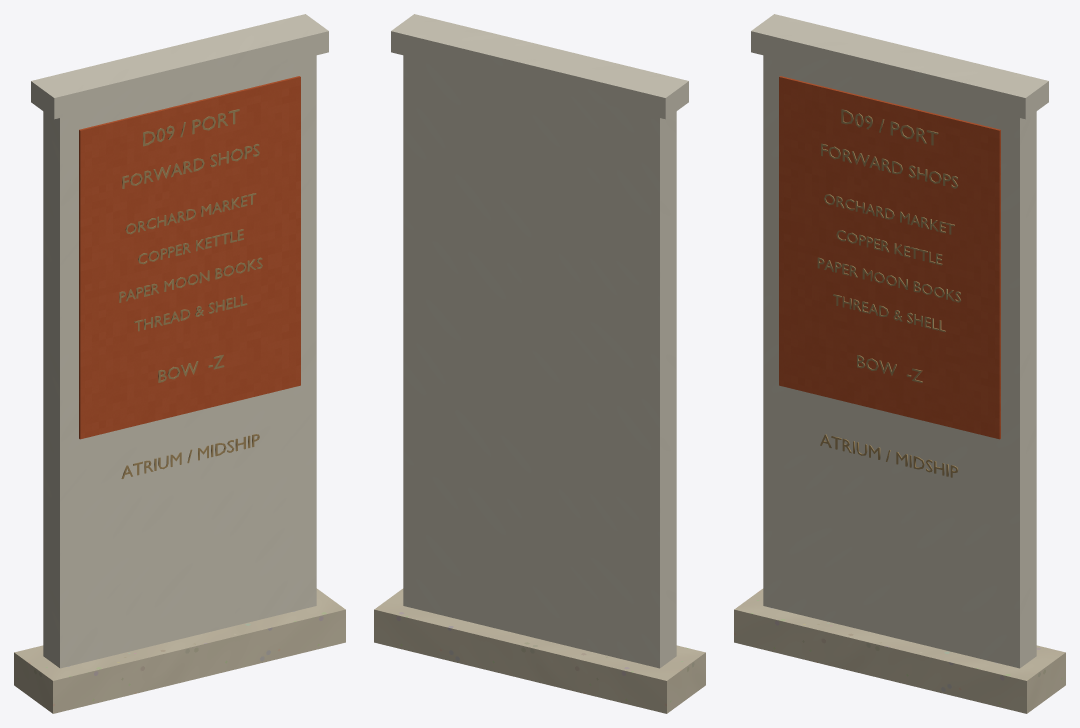
File: guide_port_forward_r001.glb
3 renders of one model, left to right at view 1: azimuth 30°, elevation 25°; view 2: azimuth 150°, elevation 25°; view 3: azimuth 330°, elevation 25°, orthographic.
Visible parts, largest first — view 1: profiled_column, recessed_orange_directory, weighted_plinth, crown, district, atrium, venue_2, venue_0, venue_3, venue_1, heading; view 2: profiled_column, weighted_plinth, crown; view 3: profiled_column, recessed_orange_directory, weighted_plinth, crown, district, atrium, venue_2, venue_0, venue_3, venue_1, heading.
Part boxes in pixels (left/top/right/bottom): profiled_column: left=43, top=55, right=316, bottom=668; recessed_orange_directory: left=79, top=76, right=300, bottom=439; weighted_plinth: left=14, top=588, right=345, bottom=713; crown: left=31, top=14, right=328, bottom=119; district: left=122, top=144, right=259, bottom=188; atrium: left=121, top=434, right=259, bottom=478; venue_2: left=119, top=257, right=262, bottom=302; venue_0: left=125, top=193, right=256, bottom=234; venue_3: left=134, top=295, right=247, bottom=331; venue_1: left=138, top=229, right=243, bottom=264; heading: left=143, top=109, right=239, bottom=146; profiled_column: left=403, top=55, right=676, bottom=668; weighted_plinth: left=374, top=588, right=705, bottom=713; crown: left=391, top=14, right=688, bottom=119; profiled_column: left=763, top=55, right=1036, bottom=668; recessed_orange_directory: left=779, top=76, right=1000, bottom=439; weighted_plinth: left=734, top=588, right=1065, bottom=713; crown: left=751, top=14, right=1048, bottom=119; district: left=821, top=143, right=957, bottom=188; atrium: left=820, top=434, right=958, bottom=477; venue_2: left=817, top=257, right=960, bottom=302; venue_0: left=824, top=194, right=954, bottom=234; venue_3: left=833, top=294, right=945, bottom=332; venue_1: left=836, top=230, right=942, bottom=265; heading: left=841, top=109, right=938, bottom=145.
Size of the model in its own units: 1.3 by 2.58 by 0.3.
4 materials, 4 textured.
